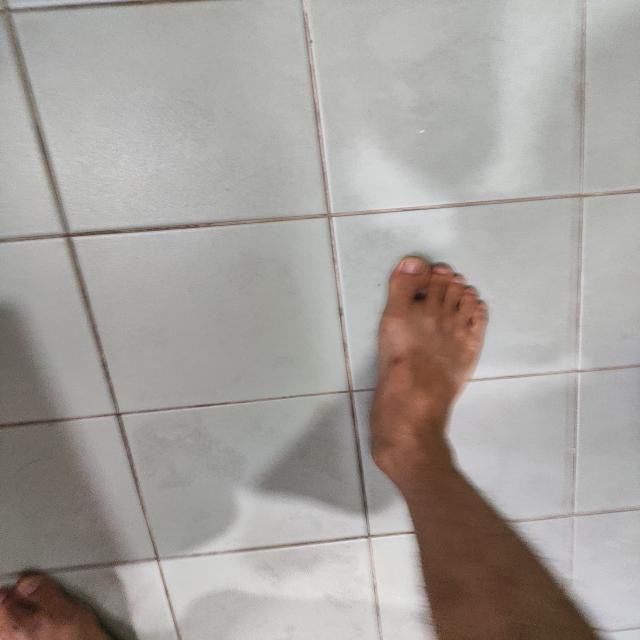No_Shoes: (282, 235, 503, 518)
